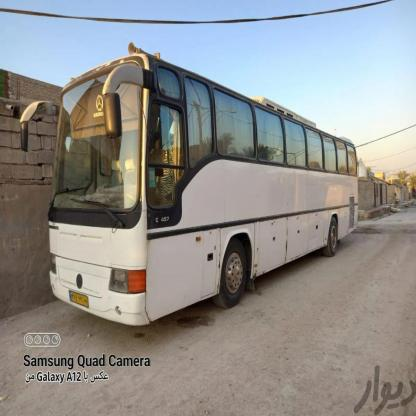Bus: (50, 45, 364, 330)
